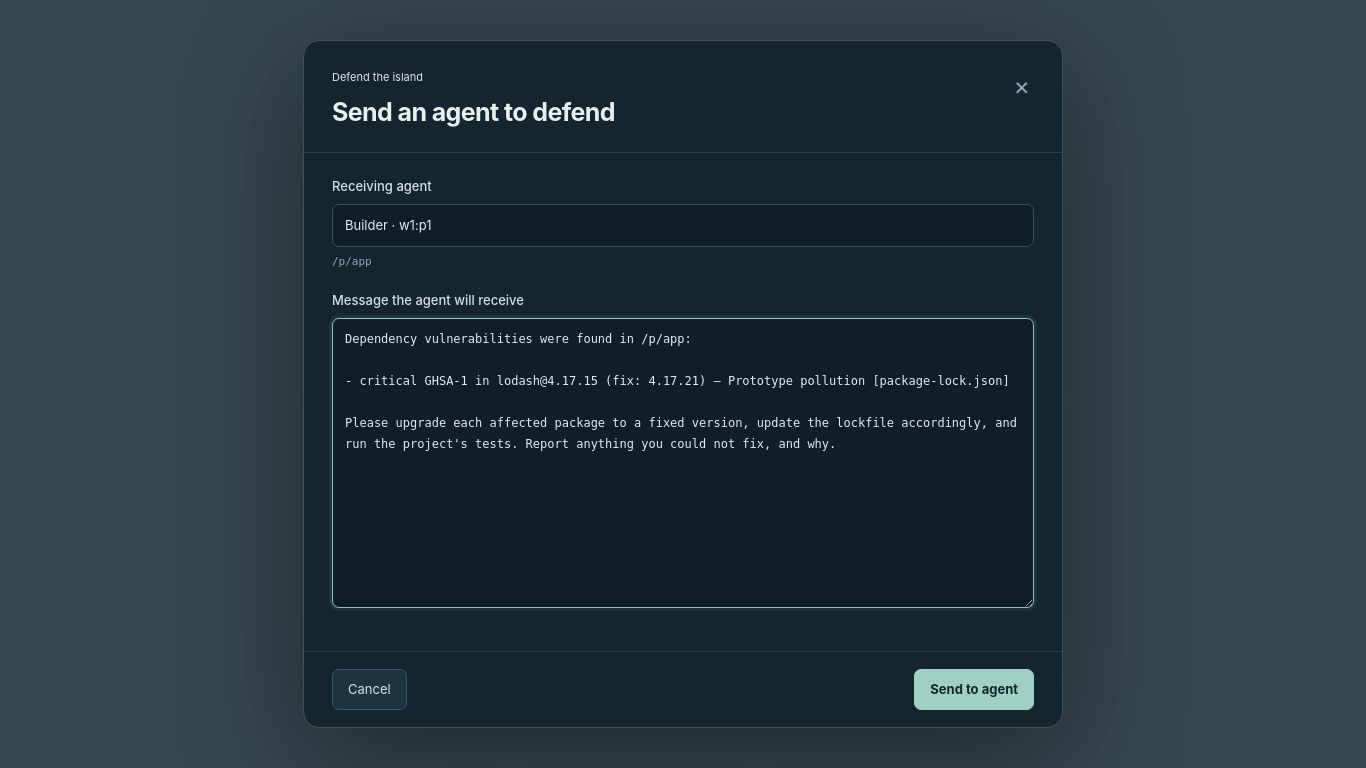
Test: defend_sends_once_with_expected_root
The width and height of the screenshot is (1366, 768).
Click the button "Send to agent": (974, 689) x1=914 y1=669 x2=1034 y2=710
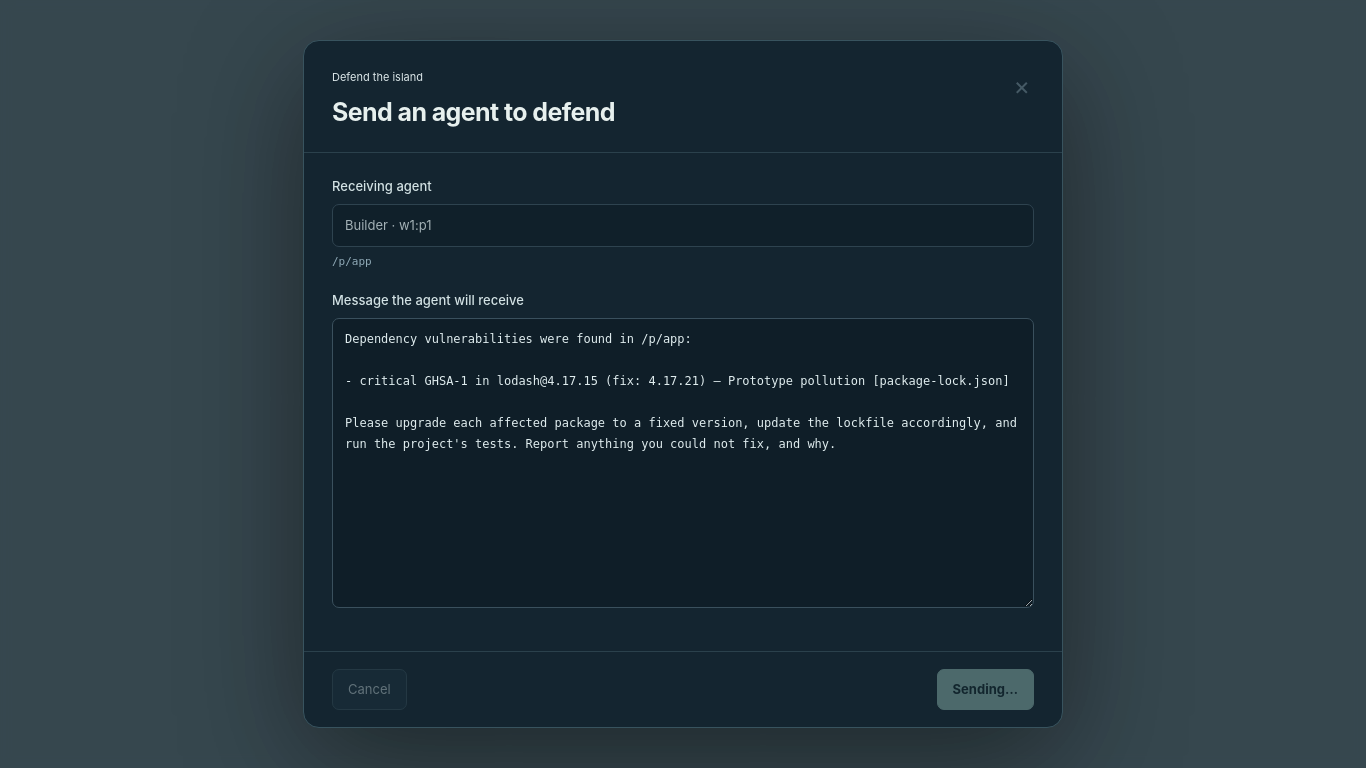
Click the button with aria-label "Send to agent": (985, 689) x1=937 y1=669 x2=1034 y2=710
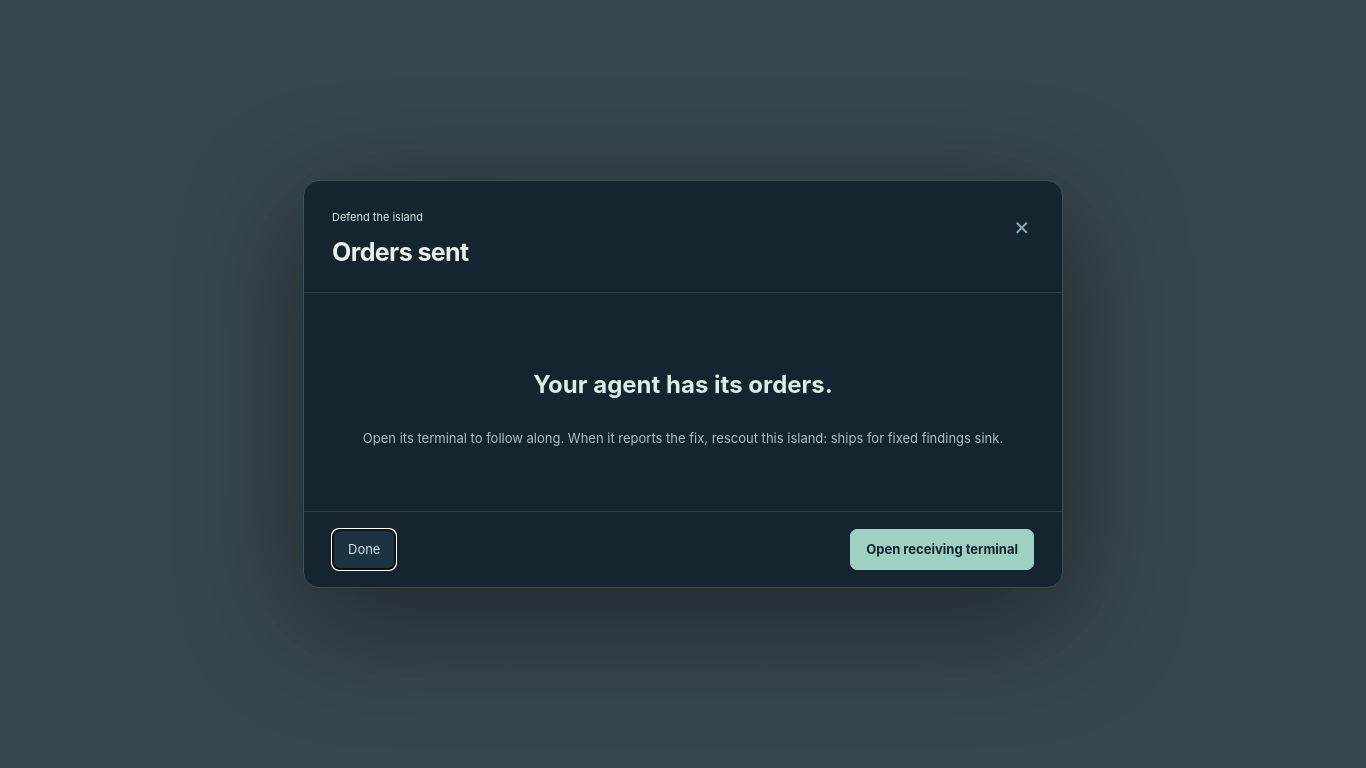
Now the heading "Your agent has its orders." is shown, box x1=533 y1=370 x2=833 y2=399
